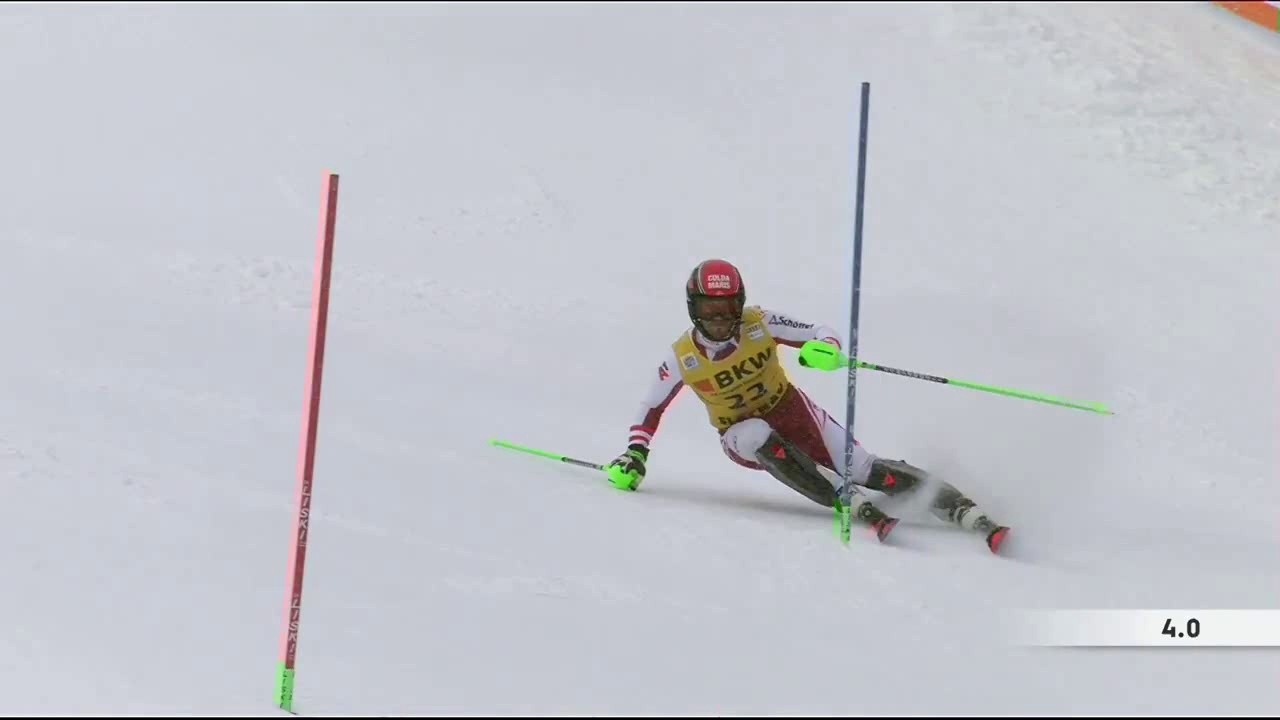rauch: (711, 349, 774, 394)
